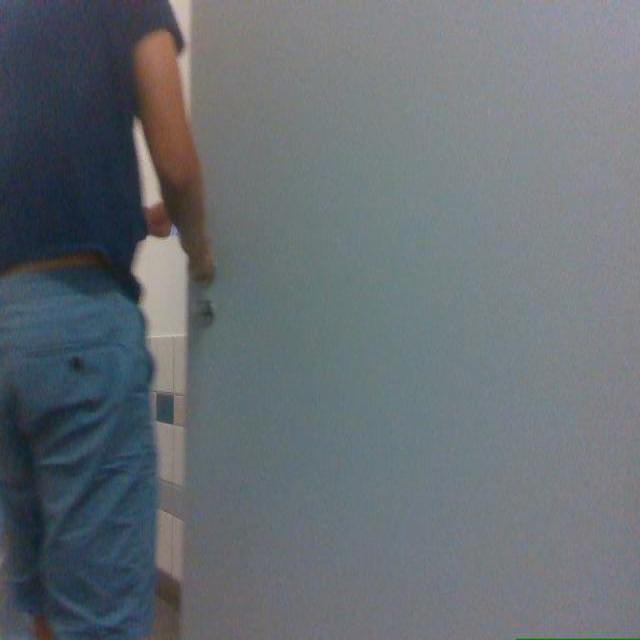humans: (0, 0, 214, 639)
objects: (179, 0, 639, 639)
